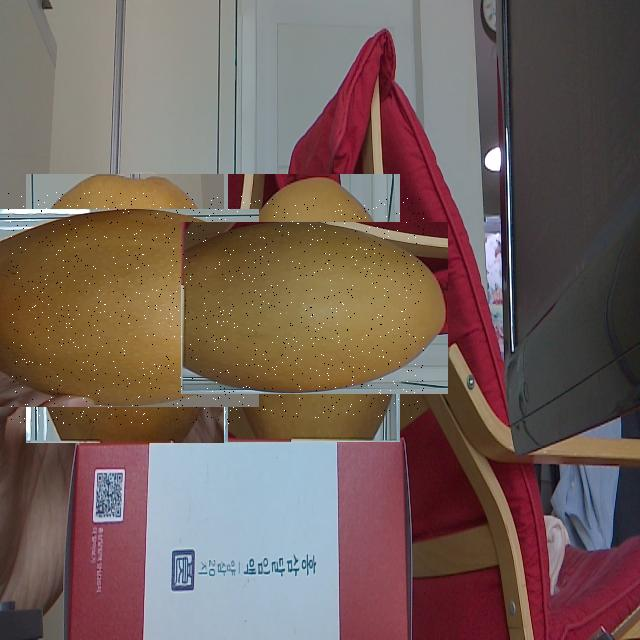pear: (8, 192, 242, 425), (204, 198, 424, 418)
